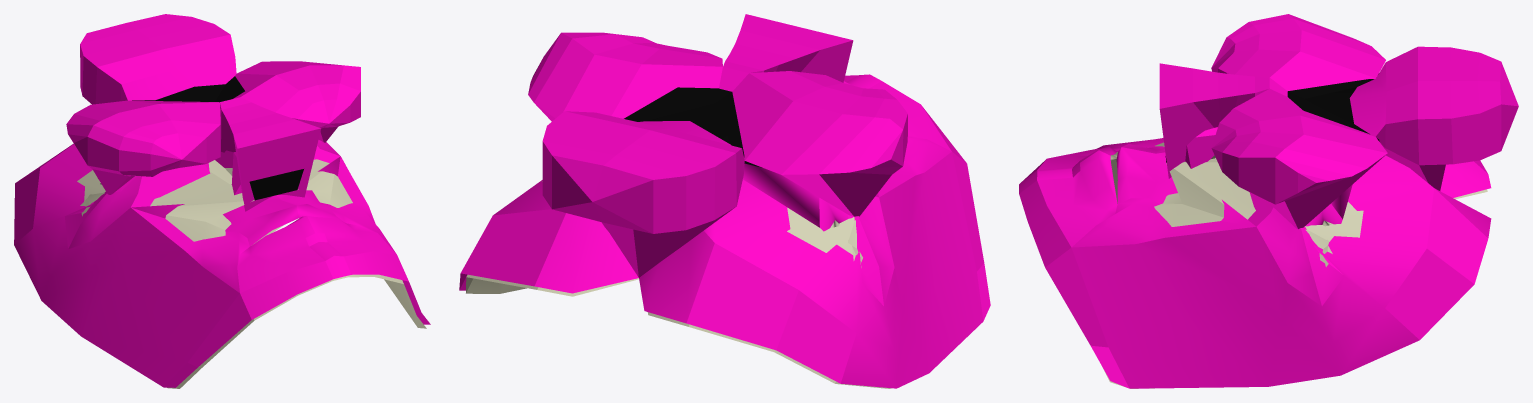
The model's file is Mask_Club.fbx.
The picture shows the model from 3 angles, left to right: view 1: azimuth 30°, elevation 25°; view 2: azimuth 150°, elevation 25°; view 3: azimuth 270°, elevation 25°; orthographic projection. The views are drawn at different scales.
Parts seen in each view (by area): view 1: Outline_Club, Club_Mask; view 2: Outline_Club, Club_Mask; view 3: Outline_Club, Club_Mask.
Boxes of the visible parts, box(x1,y1,x2,y2) form: Outline_Club: box(14, 14, 430, 387); Club_Mask: box(77, 76, 426, 388); Outline_Club: box(459, 14, 990, 388); Club_Mask: box(466, 87, 890, 388); Outline_Club: box(1019, 14, 1518, 388); Club_Mask: box(1102, 74, 1487, 388).
Bounding box in the file's own units: 86.77 × 57.01 × 108.
